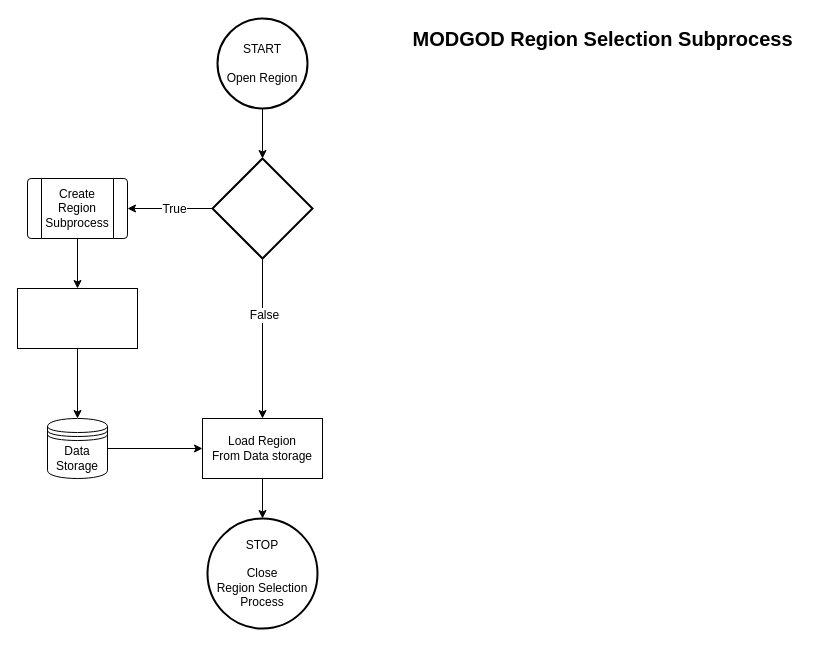
Image size: 825x646. Some labels were removed from this diagram. The centre of each missing label's shape, as x and y in pixels:
"IF Create New Region?" belongs at pixel 262 208.
"Save Region To Data Store" belongs at pixel 77 318.
